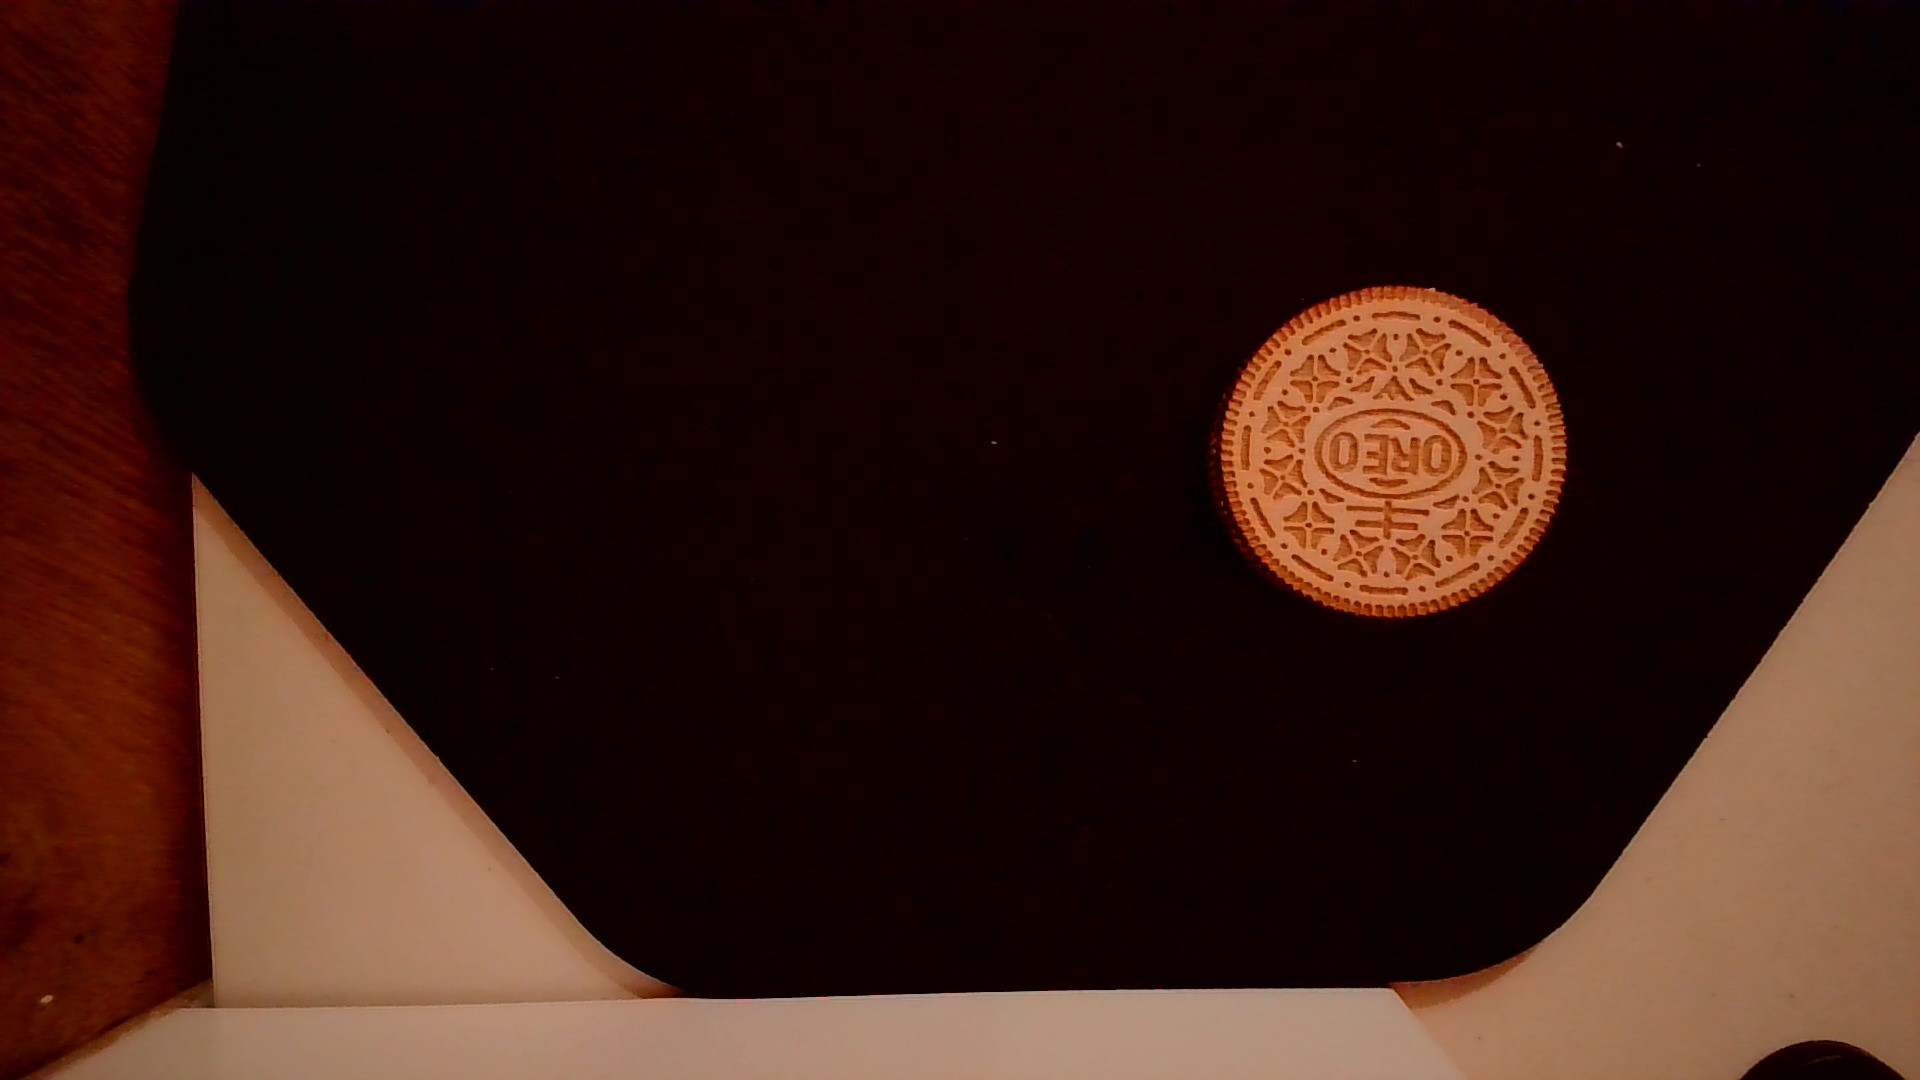Oréo: (1204, 276, 1571, 628)
